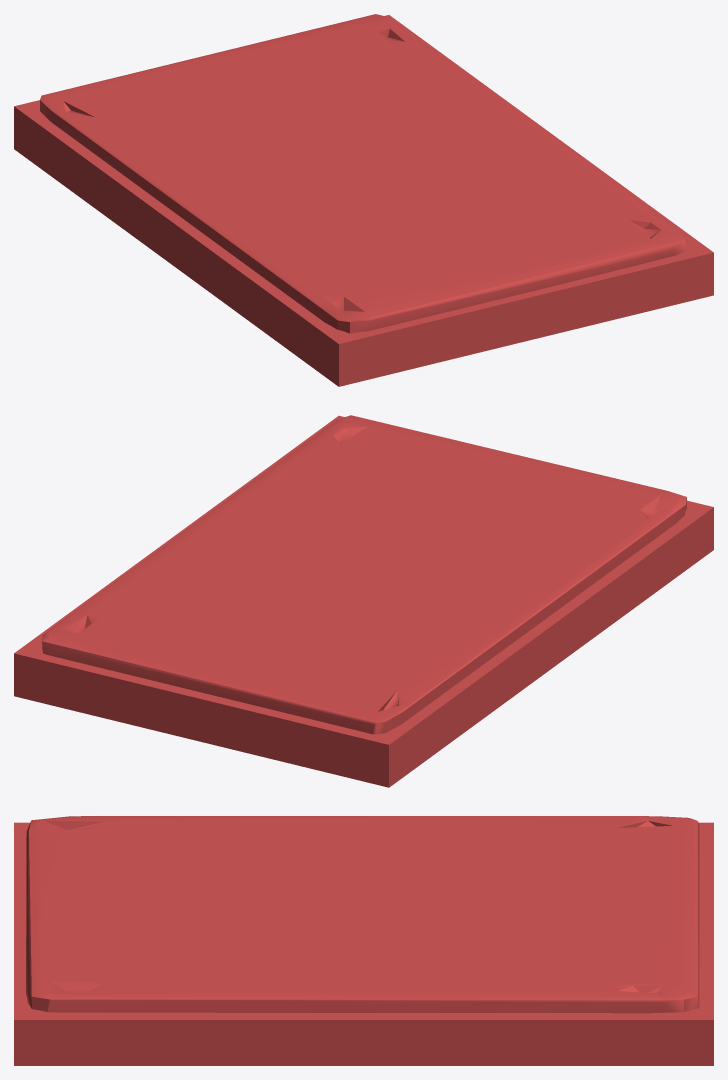
Rendered from Final_ComplexWall_3x2_04.FBX.
3 renders of one model, top to bottom at view 1: azimuth 30°, elevation 25°; view 2: azimuth 150°, elevation 25°; view 3: azimuth 270°, elevation 25°, orthographic. The views are drawn at different scales.
Parts seen in each view (by area): view 1: Final_ComplexWall_3x2_04; view 2: Final_ComplexWall_3x2_04; view 3: Final_ComplexWall_3x2_04.
Boxes of the visible parts, bbox=[...] form: Final_ComplexWall_3x2_04: bbox=[14, 14, 713, 386]; Final_ComplexWall_3x2_04: bbox=[14, 415, 713, 787]; Final_ComplexWall_3x2_04: bbox=[14, 816, 713, 1065].
Bounding box in the file's own units: 200 × 300 × 28.38.
